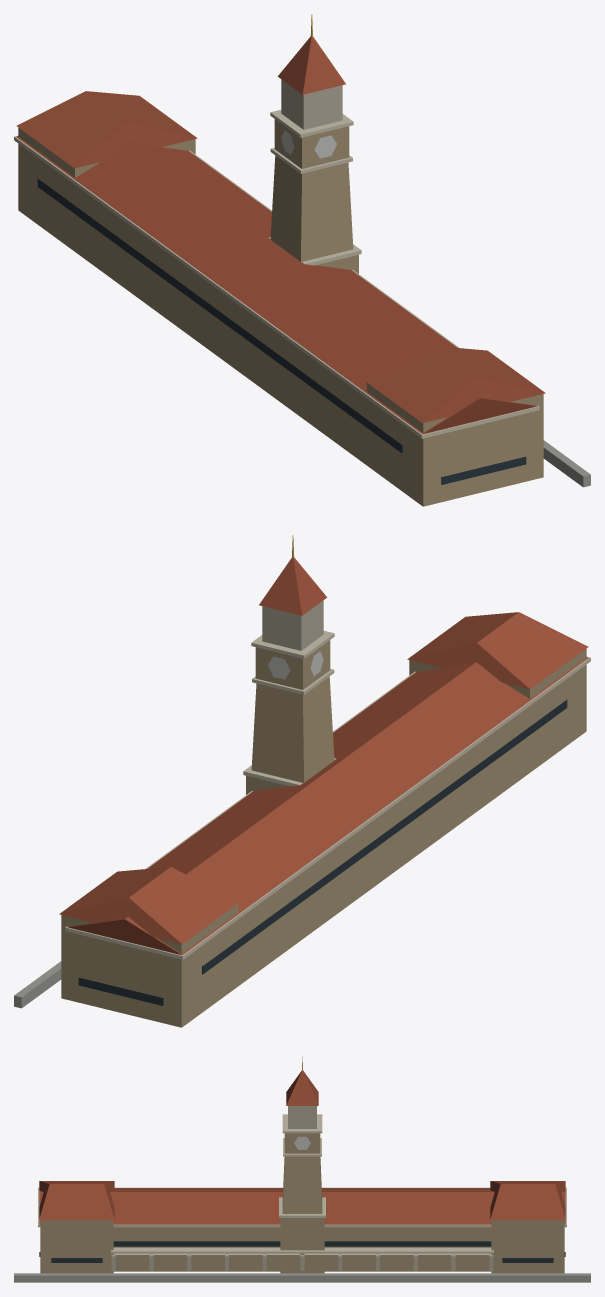
Rendered from mobile-low.glb.
The picture shows the model from 3 angles, top to bottom: view 1: azimuth 30°, elevation 25°; view 2: azimuth 150°, elevation 25°; view 3: azimuth 270°, elevation 25°; orthographic projection. The views are drawn at different scales.
Parts seen in each view (by area): view 1: lm.ferry-building; view 2: lm.ferry-building; view 3: lm.ferry-building.
Boxes of the visible parts, x1,y1,x2,y2 form: lm.ferry-building: (14,14,590,506); lm.ferry-building: (14,535,590,1027); lm.ferry-building: (14,1056,590,1282).
Size of the model in its own units: 42.9 by 87.8 by 220.
